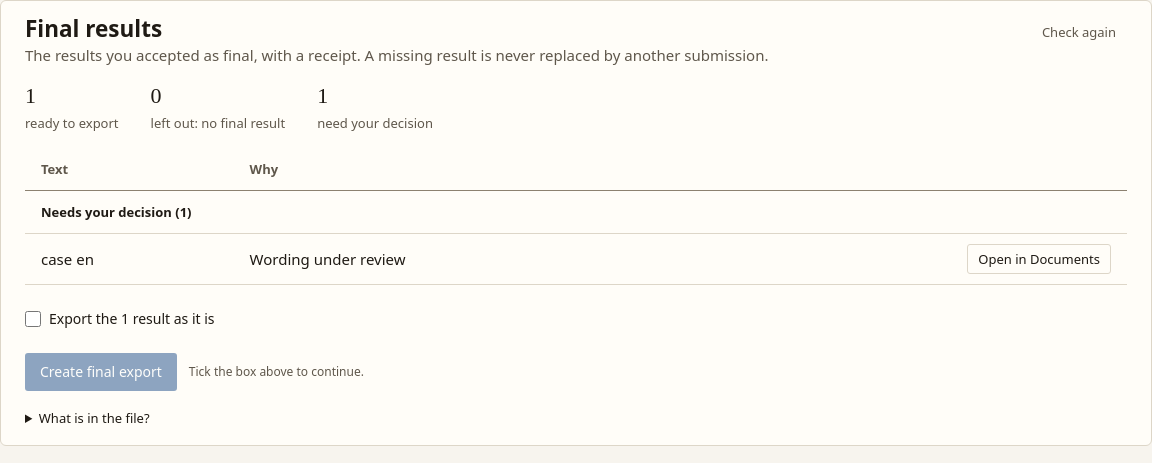
Test: checks again without starting, clears the acknowledgement and keeps focus on Check again
Click the checkbox labelled "Export the 1 result as it is".
click(33, 319)  # box [25,311,41,327]
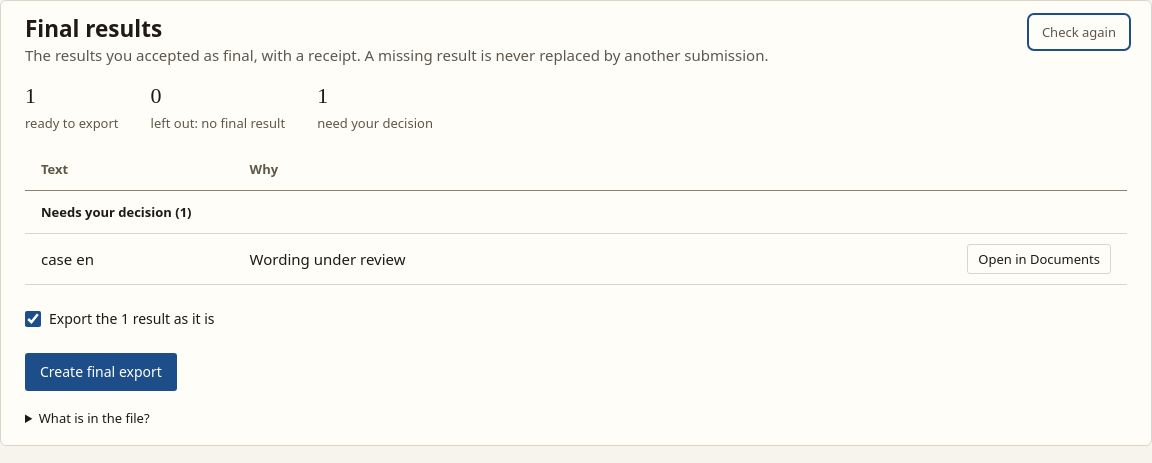
Click the button "Check again".
click(1079, 32)  # box [1031,17,1127,47]
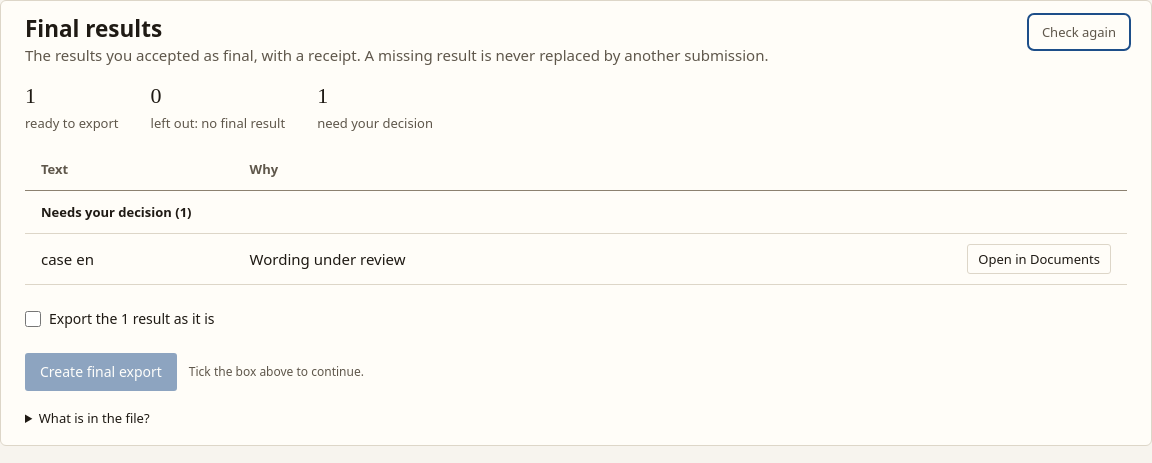
Check: the checkbox labelled "Export the 1 result as it is" is not checked, box [25,311,41,327]
